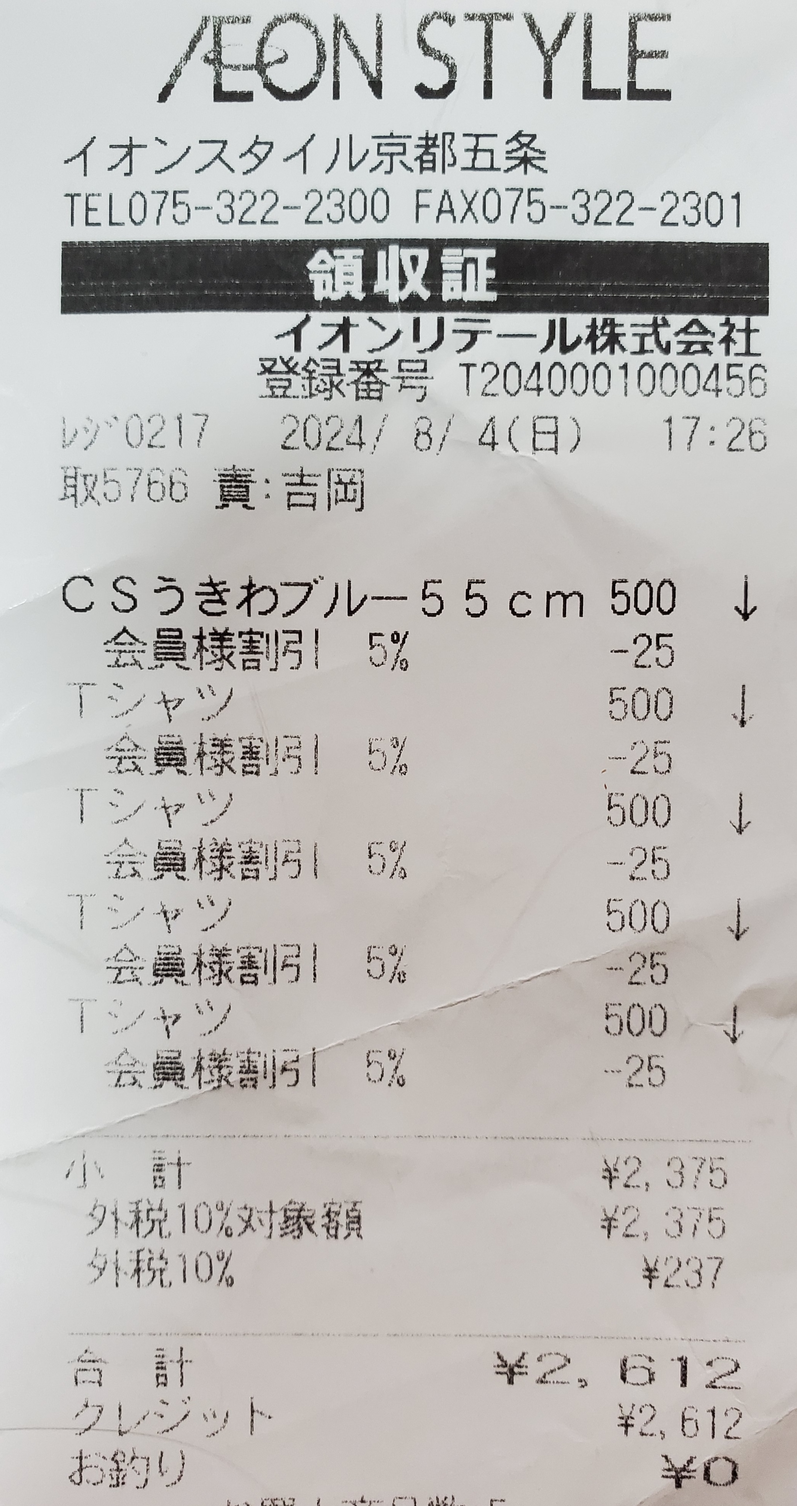Date: (273, 407, 503, 461)
Shopname: (154, 6, 706, 123)
Telnum: (125, 181, 400, 231)
Totalpay: (64, 1347, 758, 1399)
